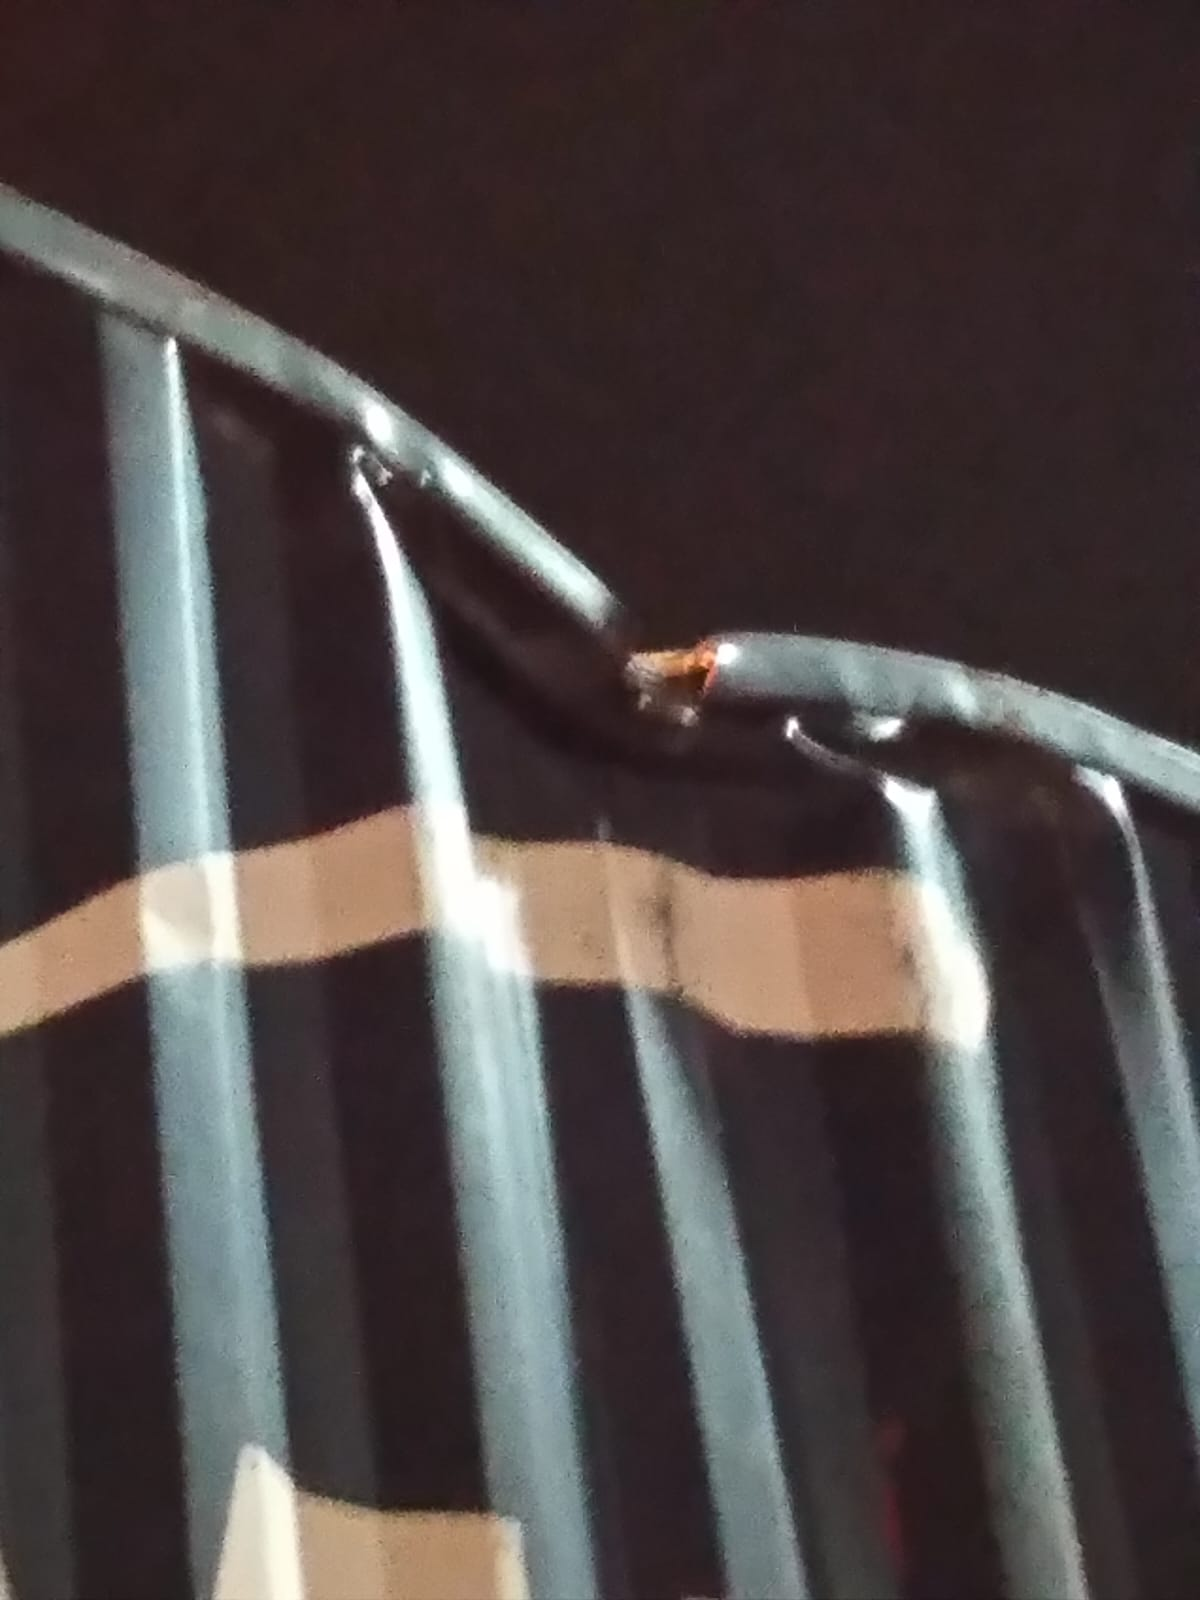moderate: (389, 476, 933, 828)
